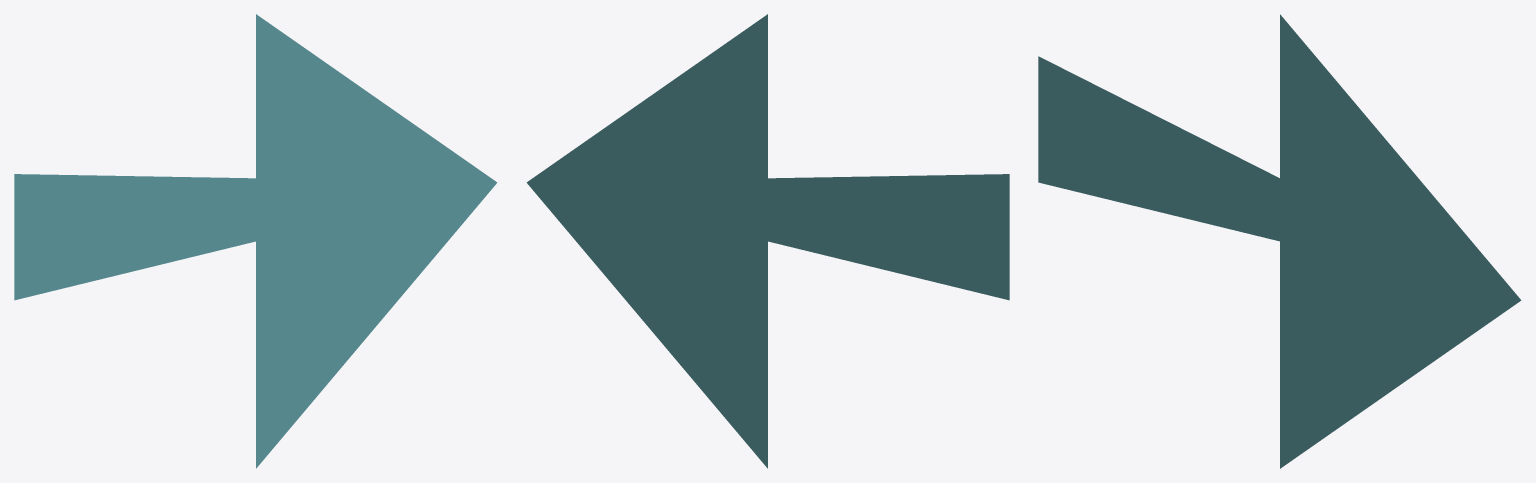
The model's file is odyssey.gltf.
3 views of the same model, side by side, from view 1: azimuth 30°, elevation 25°; view 2: azimuth 150°, elevation 25°; view 3: azimuth 330°, elevation 25° (orthographic).
Parts seen in each view (by area): view 1: fuselage, starboard-wing, port-wing; view 2: fuselage, starboard-wing, port-wing; view 3: fuselage, starboard-wing, port-wing.
Part boxes in pixels (x1,y1,x2,y2): fuselage: (14, 174, 495, 300); starboard-wing: (256, 182, 496, 468); port-wing: (256, 14, 496, 241); fuselage: (529, 174, 1009, 300); starboard-wing: (527, 182, 767, 468); port-wing: (527, 14, 767, 241); fuselage: (1038, 56, 1520, 300); starboard-wing: (1280, 241, 1520, 468); port-wing: (1280, 14, 1520, 299).
Bounding box in the file's own units: 4 × 3.6 × 0.
